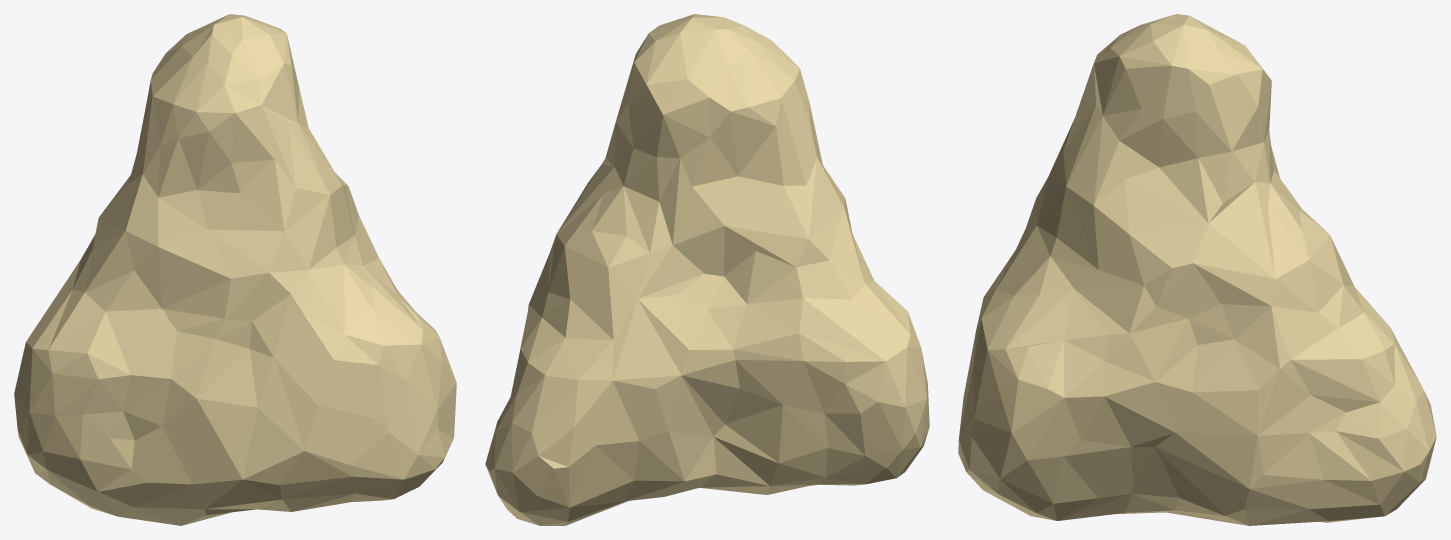
Rendered from Asteroid (13).fbx.
3 views of the same model, side by side, from view 1: azimuth 30°, elevation 25°; view 2: azimuth 150°, elevation 25°; view 3: azimuth 270°, elevation 25° (orthographic). The views are drawn at different scales.
Parts seen in each view (by area): view 1: Asteroid213; view 2: Asteroid213; view 3: Asteroid213.
Boxes of the visible parts, x1=… form: Asteroid213: x1=14, y1=14, x2=456, y2=525; Asteroid213: x1=485, y1=14, x2=929, y2=525; Asteroid213: x1=958, y1=14, x2=1436, y2=525.
Bounding box in the file's own units: 196 × 243 × 224.
